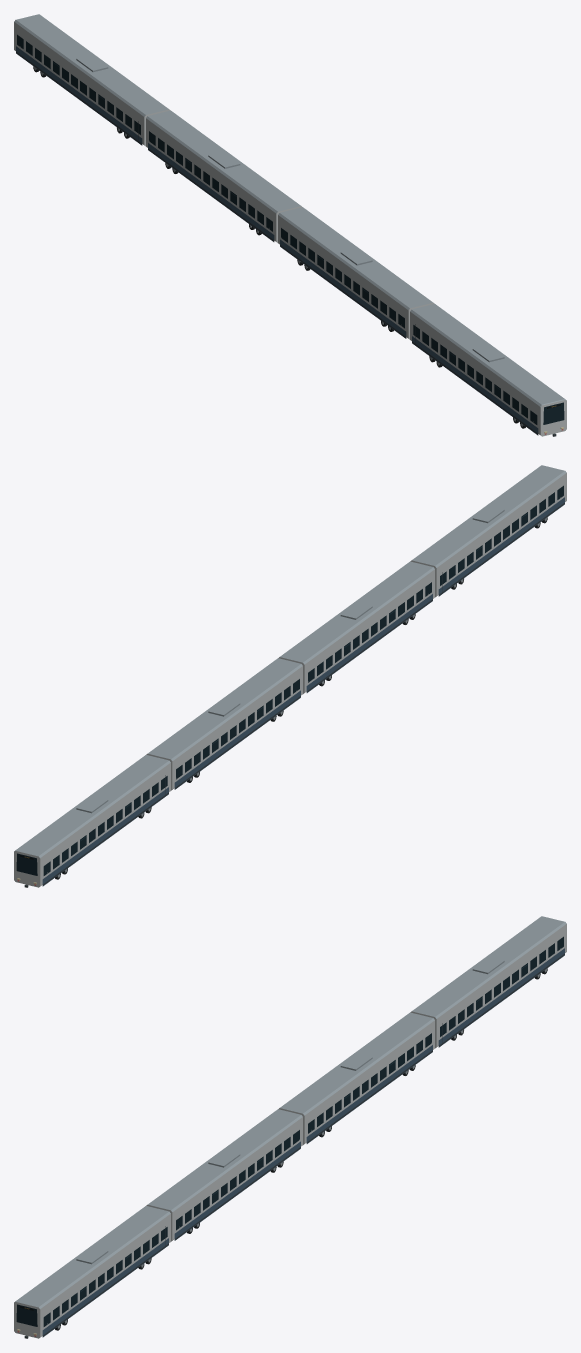
File: rail-generic.glb
3 views of the same model, one above another, from view 1: azimuth 30°, elevation 25°; view 2: azimuth 150°, elevation 25°; view 3: azimuth 330°, elevation 25° (orthographic).
Parts seen in each view (by area): view 1: rail-generic.segment-01.005, rail-generic.segment-02.005, rail-generic.segment-03.005, rail-generic.segment-04.005; view 2: rail-generic.segment-04.005, rail-generic.segment-02.005, rail-generic.segment-03.005, rail-generic.segment-01.005; view 3: rail-generic.segment-01.005, rail-generic.segment-02.005, rail-generic.segment-03.005, rail-generic.segment-04.005.
Boxes of the visible parts, x1,y1,x2,y2 form: rail-generic.segment-01.005: (410, 304, 566, 436); rail-generic.segment-02.005: (278, 207, 434, 339); rail-generic.segment-03.005: (146, 110, 302, 242); rail-generic.segment-04.005: (14, 14, 170, 146); rail-generic.segment-04.005: (14, 755, 170, 887); rail-generic.segment-02.005: (278, 561, 434, 693); rail-generic.segment-03.005: (146, 658, 302, 790); rail-generic.segment-01.005: (410, 465, 566, 597); rail-generic.segment-01.005: (14, 1206, 170, 1338); rail-generic.segment-02.005: (146, 1109, 302, 1241); rail-generic.segment-03.005: (278, 1012, 434, 1144); rail-generic.segment-04.005: (410, 916, 566, 1048).
Bounding box in the file's own units: 2.9 × 4.05 × 98.44.
